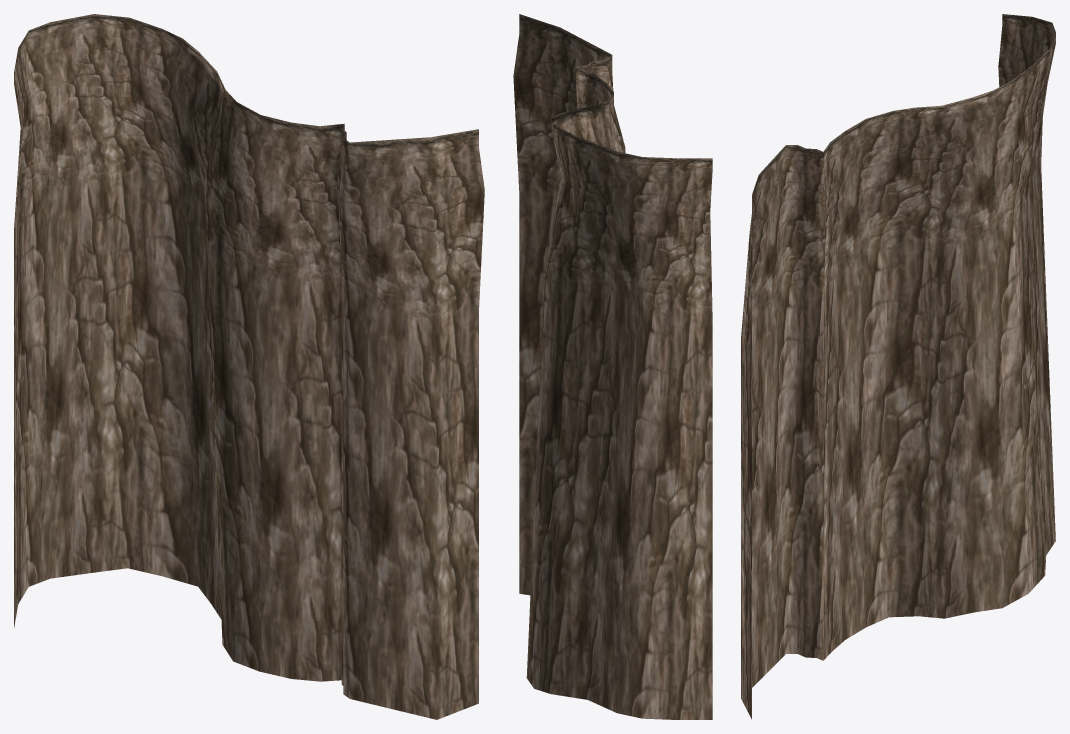
File: OVERHILL_A_01_LINE158.fbx
3 renders of one model, left to right at view 1: azimuth 30°, elevation 25°; view 2: azimuth 150°, elevation 25°; view 3: azimuth 270°, elevation 25°, orthographic. The views are drawn at different scales.
Visible parts, largest first — view 1: OVERHILL_A_01_LINE158; view 2: OVERHILL_A_01_LINE158; view 3: OVERHILL_A_01_LINE158.
Part boxes in pixels (x1,y1,x2,y2): OVERHILL_A_01_LINE158: [14, 14, 484, 719]; OVERHILL_A_01_LINE158: [513, 14, 712, 719]; OVERHILL_A_01_LINE158: [741, 14, 1055, 719].
Size of the model in its own units: 156705 by 280272 by 139810.
2 materials, 2 textured.
